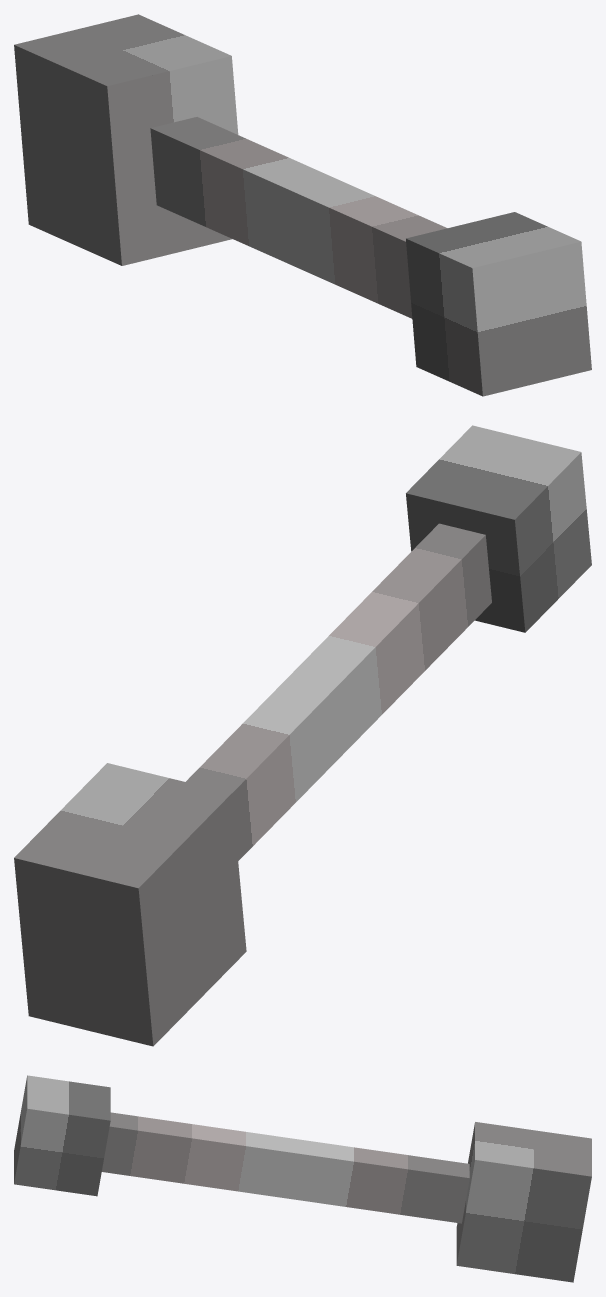
Rendered from anchor_link.obj.
3 renders of one model, top to bottom at view 1: azimuth 30°, elevation 25°; view 2: azimuth 150°, elevation 25°; view 3: azimuth 270°, elevation 25°, orthographic. The views are drawn at different scales.
Parts seen in each view (by area): view 1: 结合杆头; view 2: 结合杆头; view 3: 结合杆头.
Boxes of the visible parts, left/top/right/bottom form: 结合杆头: left=14, top=14, right=591, bottom=396; 结合杆头: left=14, top=425, right=591, bottom=1046; 结合杆头: left=14, top=1075, right=591, bottom=1282.
Size of the model in its own units: 0.1 by 0.2099 by 0.6411.
